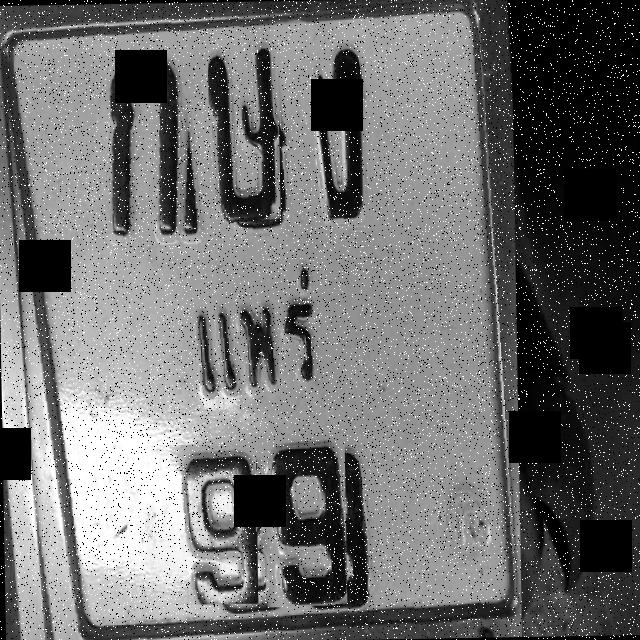letters: (90, 51, 194, 248), (139, 443, 258, 605), (254, 432, 348, 608), (312, 22, 382, 226), (207, 34, 280, 224)
license-plate: (1, 3, 522, 640)
province: (176, 258, 364, 418)
